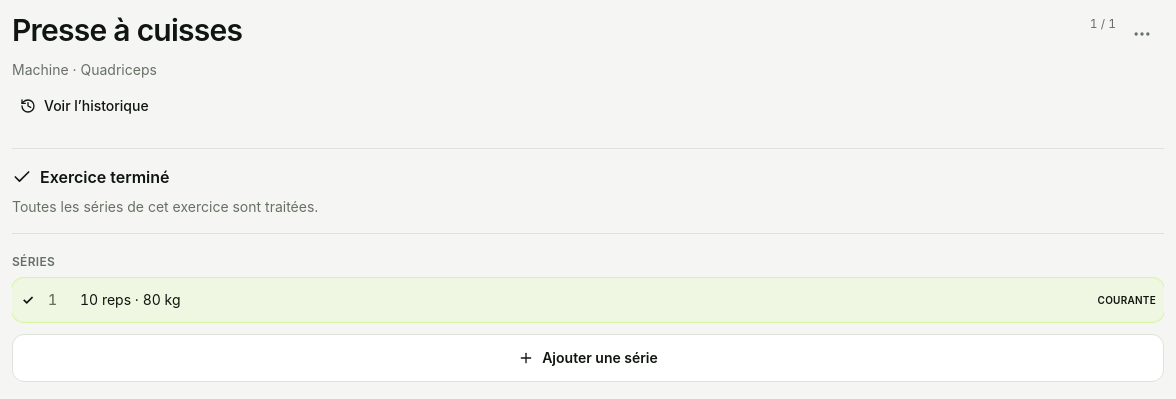
Replace session exercise UI › désactive le remplacement si des séries sont déjà enregistrées
Click the button named "Actions de l’exercice" at {"x": 1142, "y": 34}, box [1120,12,1164,56]
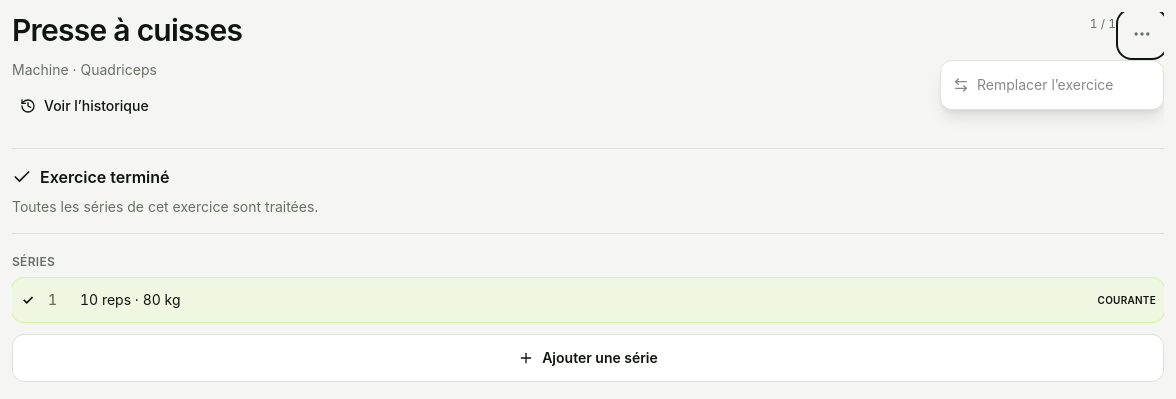
Check: the menu item "Remplacer l’exercice" is disabled, box [941,65,1163,105]
